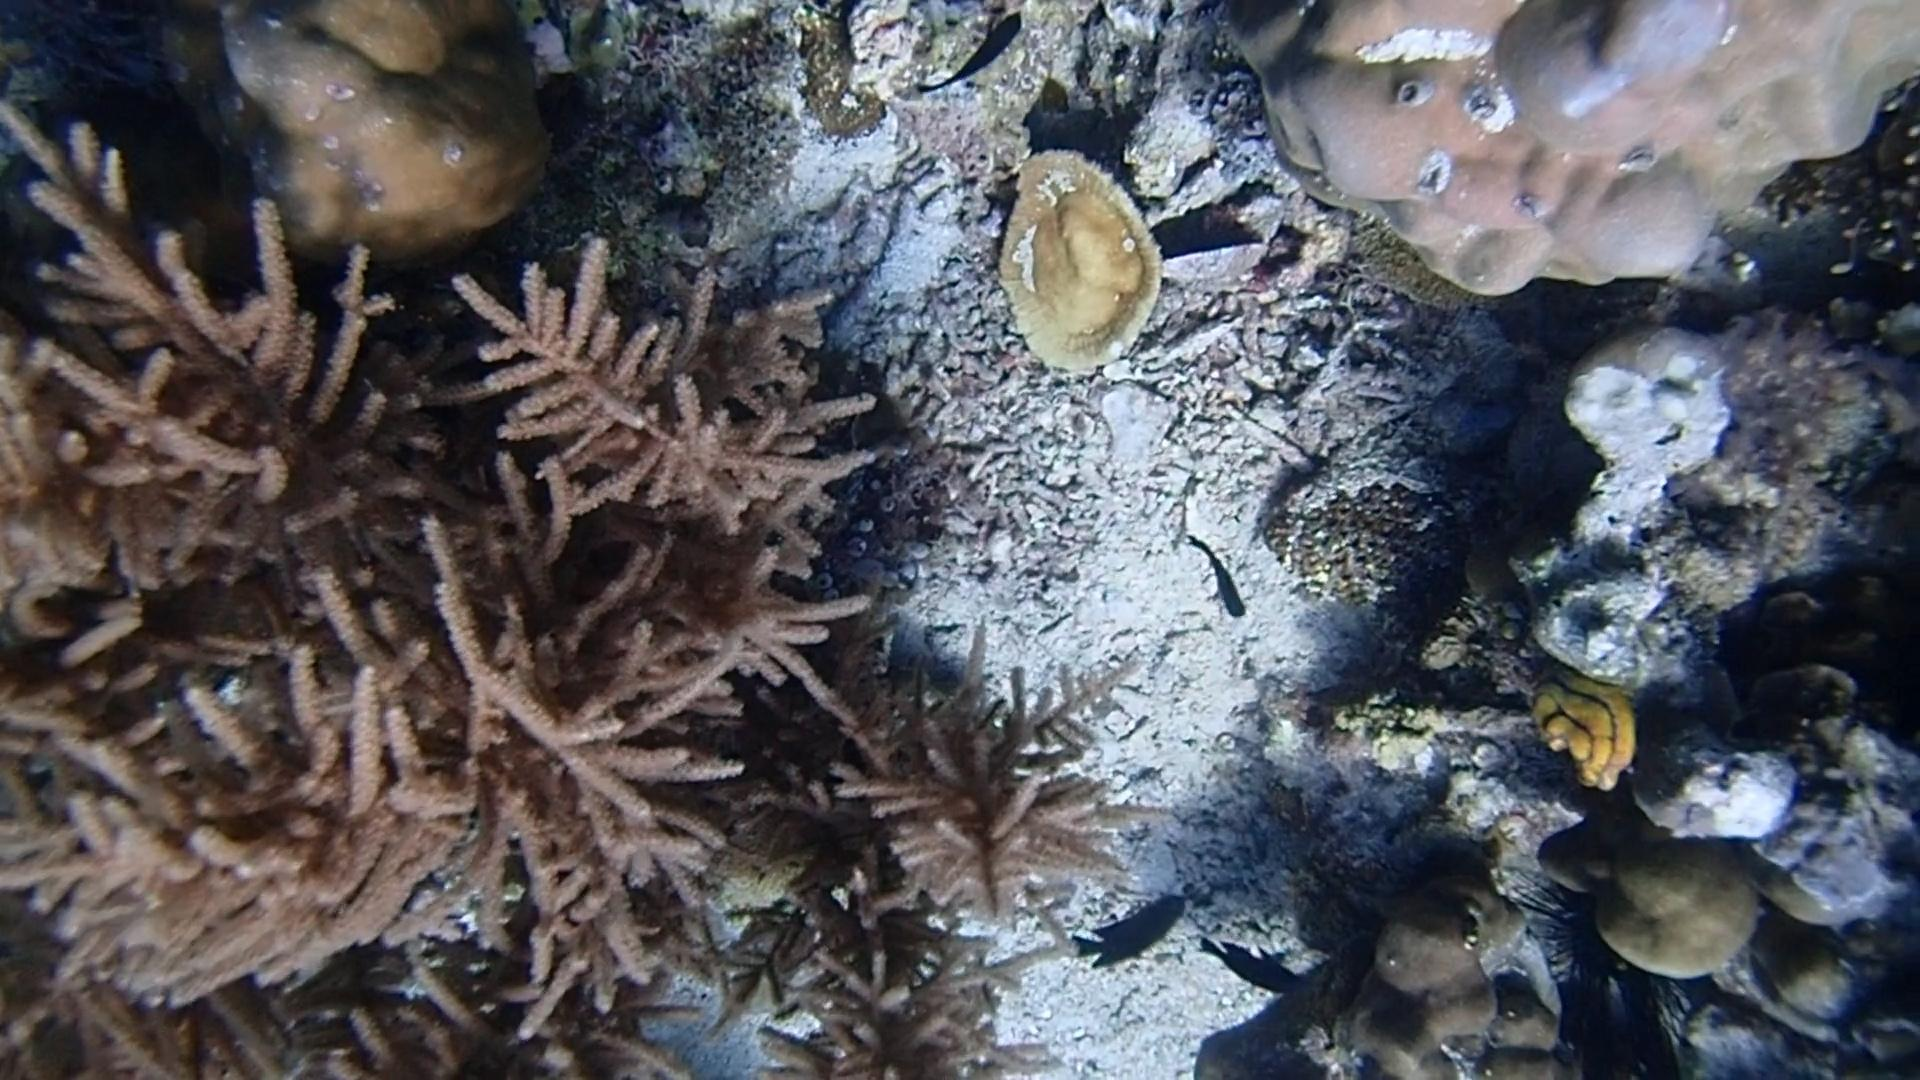Dark Fish: (1060, 882, 1188, 978), (911, 11, 1029, 108), (1195, 926, 1305, 1005), (1184, 539, 1257, 625)
